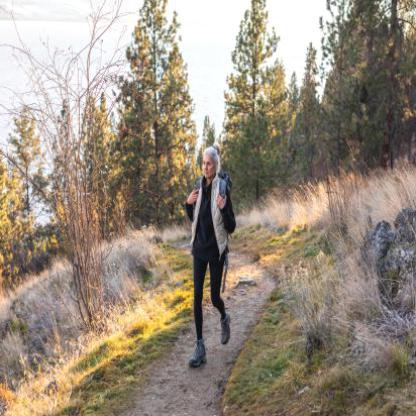person: (184, 145, 237, 368)
